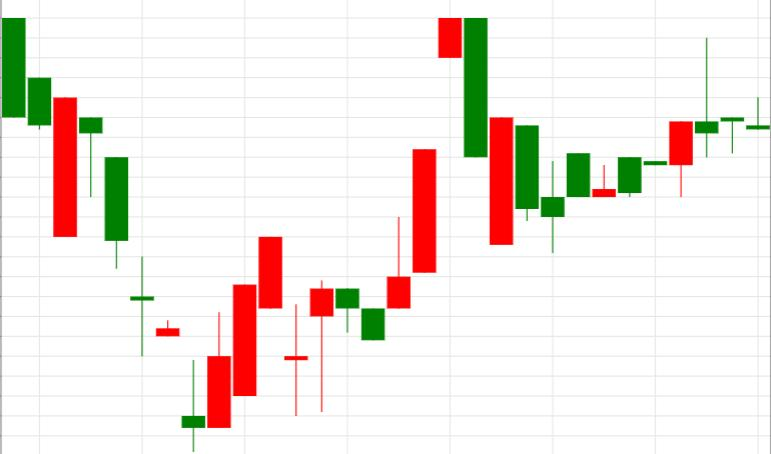bearish_engulfing_fall: (285, 17, 487, 415)
three_white_soldiers_rise: (2, 18, 282, 451)
